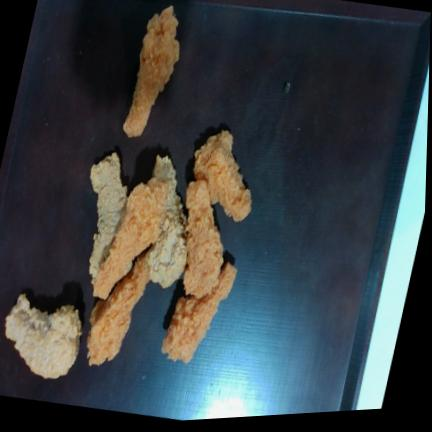chicken: (94, 177, 167, 298), (162, 262, 237, 363), (124, 6, 179, 137), (88, 254, 149, 365), (6, 294, 82, 379), (194, 130, 252, 221), (148, 155, 187, 288), (89, 152, 127, 282), (184, 180, 223, 298)
